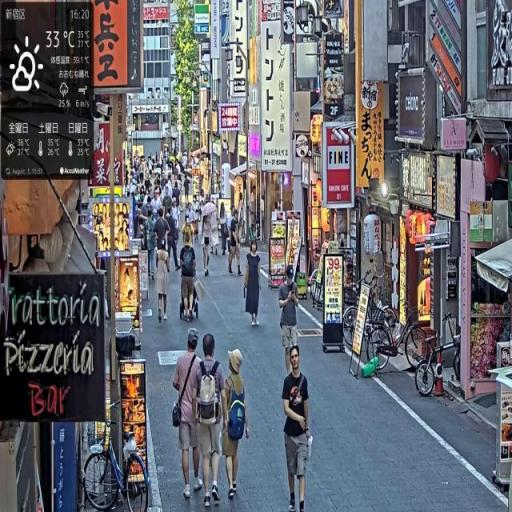person: (195, 332, 229, 510), (172, 328, 204, 503), (282, 342, 314, 511), (224, 346, 251, 500), (279, 266, 302, 379), (243, 239, 265, 330), (180, 229, 200, 324), (156, 245, 172, 325), (227, 208, 244, 277), (145, 207, 160, 284), (201, 209, 215, 275)
